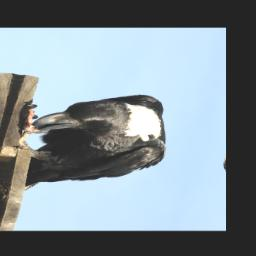Crow: (0, 80, 185, 206)
